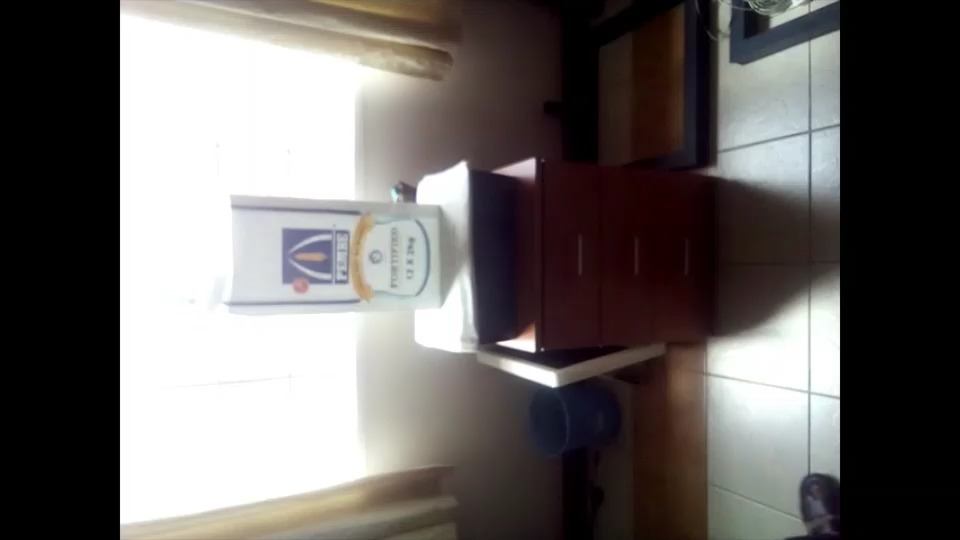wheat_flour_blue_label: (229, 197, 439, 297)
